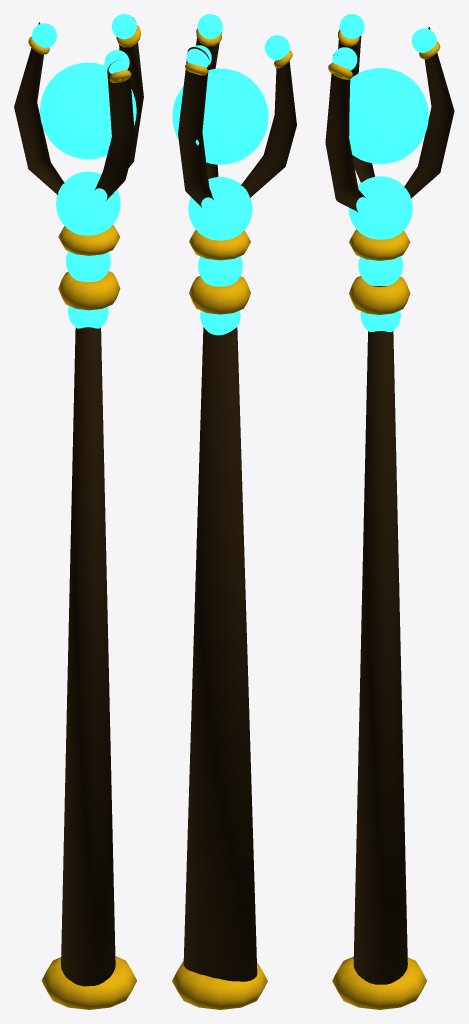
Rendered from BlueWand.fbx.
The picture shows the model from 3 angles, left to right: view 1: azimuth 90°, elevation 25°; view 2: azimuth 150°, elevation 25°; view 3: azimuth 270°, elevation 25°; orthographic projection.
Parts seen in each view (by area): view 1: BlueWand; view 2: BlueWand; view 3: BlueWand.
Part boxes in pixels (x1,y1,x2,y2): BlueWand: (14, 14, 143, 1009); BlueWand: (172, 14, 296, 1009); BlueWand: (325, 14, 454, 1009).
Size of the model in its own units: 16.73 by 142 by 17.14.
